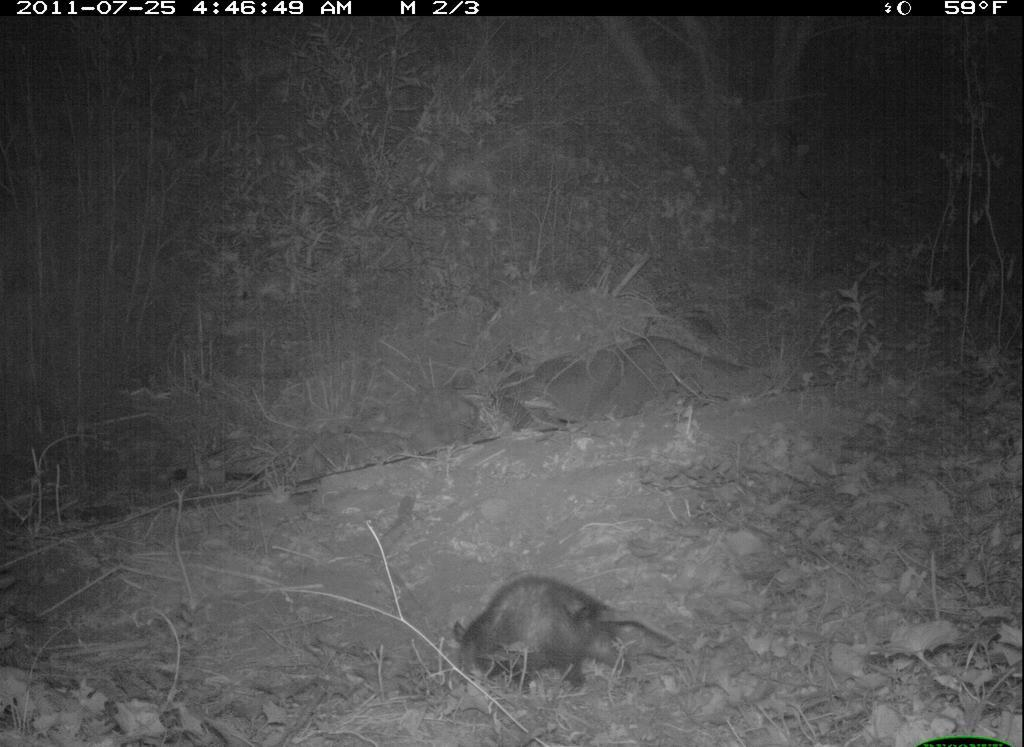opossum: (442, 573, 737, 708)
